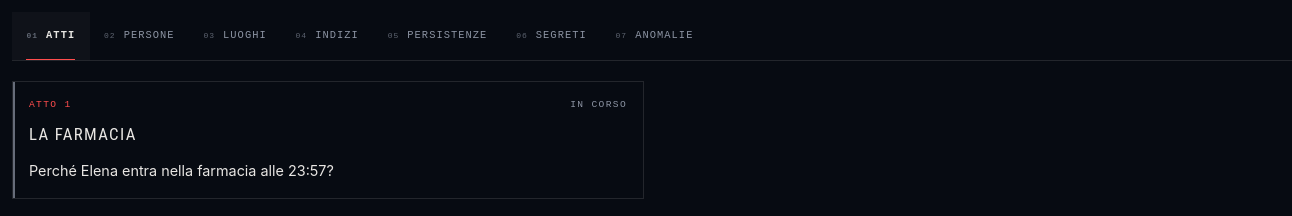
Test: ArchiveTabs › mostra empty state neutrali e nessun totale implicito
Click the tab "06 Segreti".
click(551, 36)  # box [502,12,601,60]
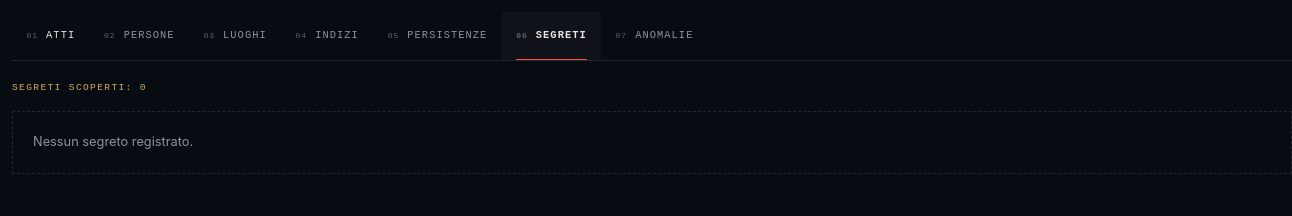
Check: the text "Segreti scoperti: 0" is shown, box [12,82,147,93]
Check: the text "Nessun segreto registrato." is shown, box [12,111,1291,174]
Click the tab "07 Anomalie".
click(654, 36)  # box [601,12,708,60]
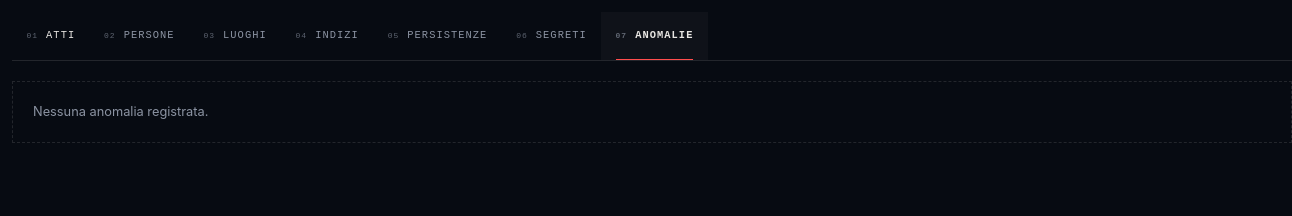
Check: the text "Nessuna anomalia registrata." is shown, box [12,81,1291,144]
